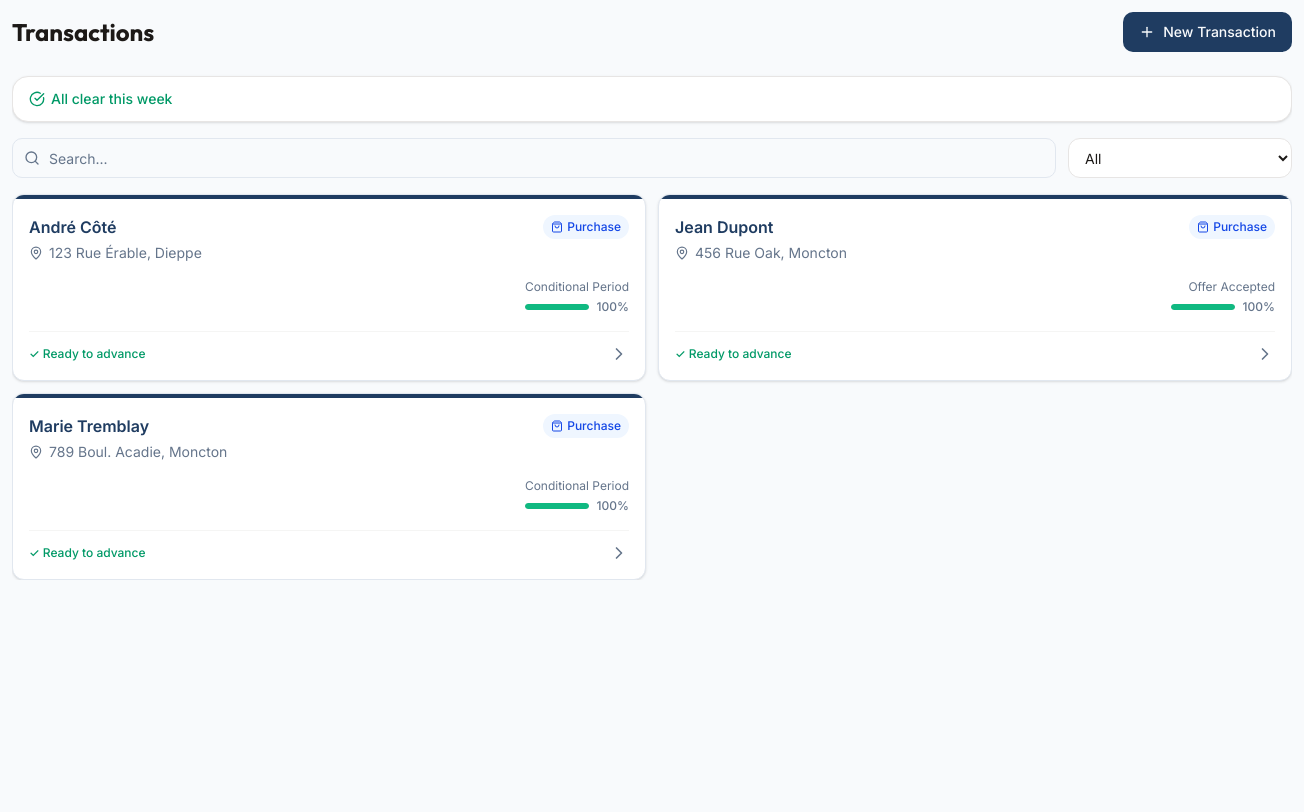
TransactionsPage › SearchBar + Step Filter › "Clear filters" button resets search and step filter
expect the text "André Côté" is shown: met, box [29,217,116,237]
Apply filters that match nothing
Type "zzzznotfound" into the field with test id "search-input" at (534,158), box [12,138,1056,178]
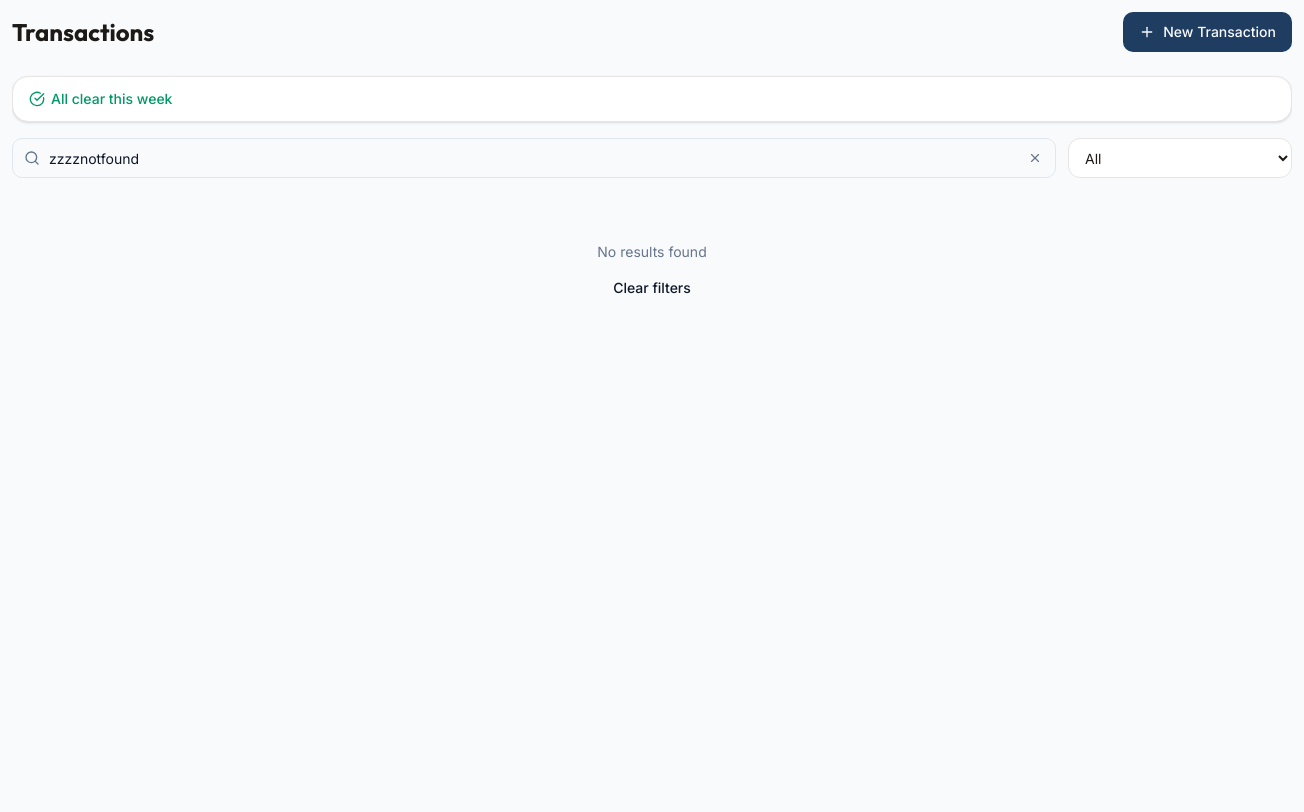
expect the element with test id "filter-empty" is shown: met, box [597,243,707,306]
Click "Clear filters"
Click the button with test id "clear-filters-btn" at (652,288), box [601,270,703,306]
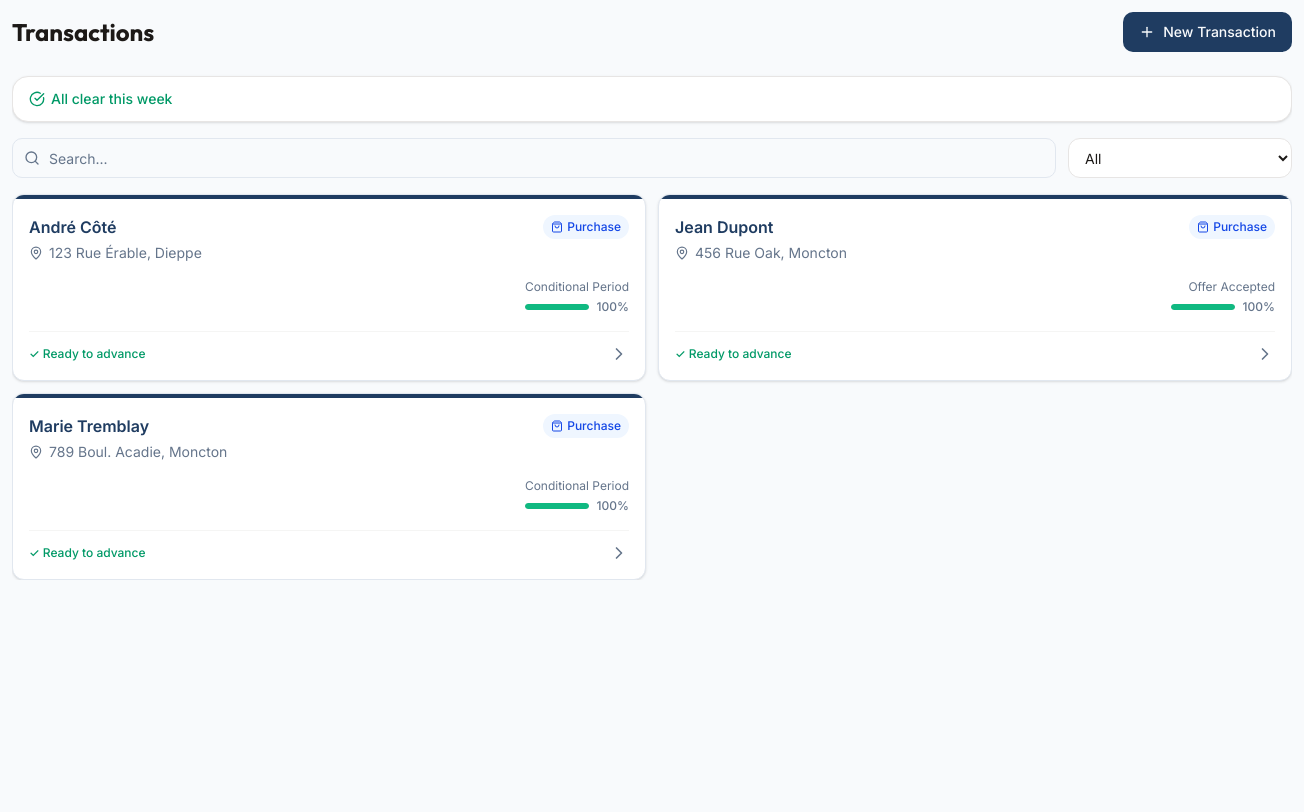
expect the text "André Côté" is shown: met, box [29,217,116,237]
expect the text "Jean Dupont" is shown: met, box [675,217,773,237]
expect the text "Marie Tremblay" is shown: met, box [29,416,149,436]
